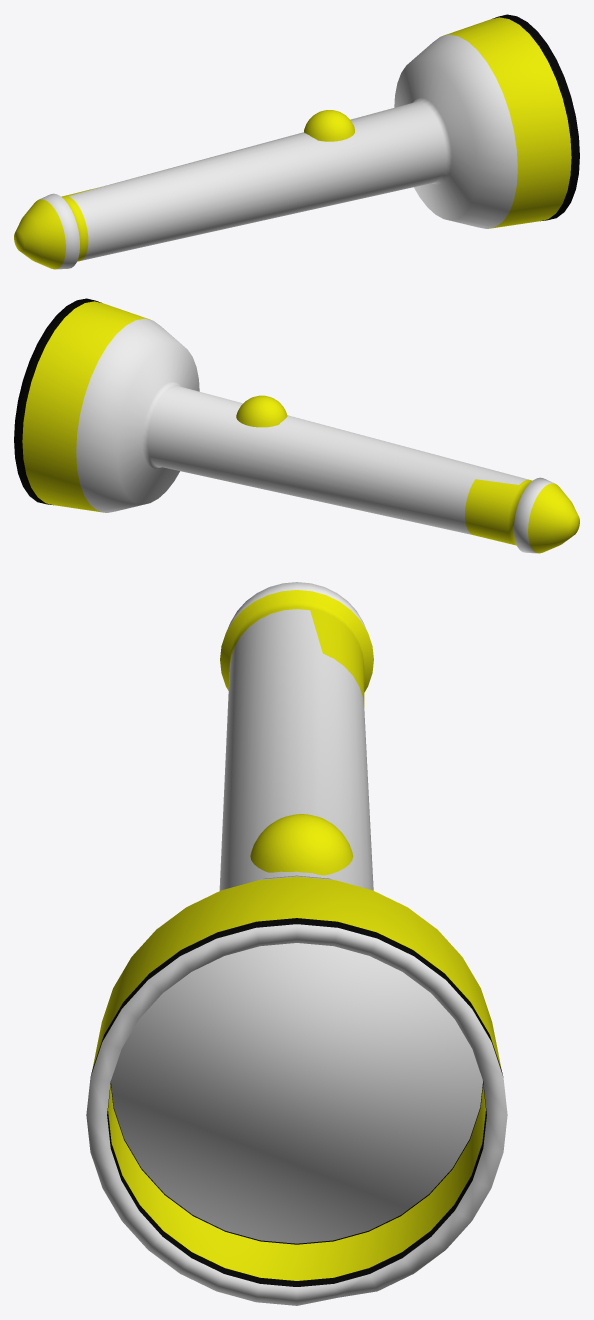
Rendered from Flashlight.fbx.
3 renders of one model, top to bottom at view 1: azimuth 30°, elevation 25°; view 2: azimuth 150°, elevation 25°; view 3: azimuth 270°, elevation 25°, orthographic. The views are drawn at different scales.
Parts seen in each view (by area): view 1: Flashlight; view 2: Flashlight; view 3: Flashlight.
Boxes of the visible parts, box(x1,y1,x2,y2) form: Flashlight: box(14, 14, 579, 269); Flashlight: box(14, 298, 579, 553); Flashlight: box(86, 582, 507, 1305).
Bounding box in the file's own units: 14.75 × 5.28 × 5.28.
